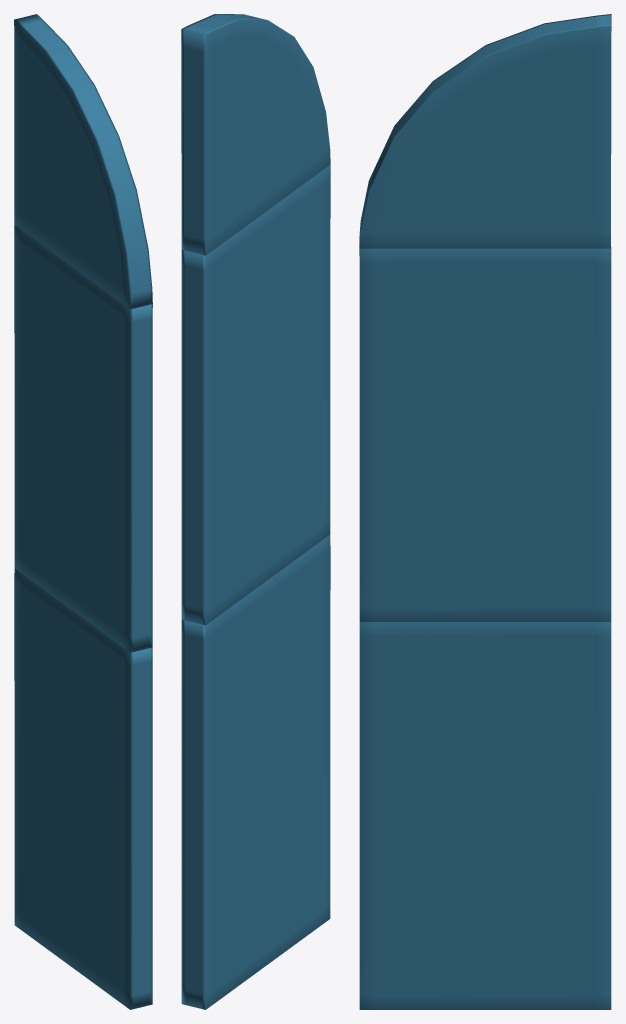
File: Door_01_R_Lod0.fbx
The picture shows the model from 3 angles, left to right: view 1: azimuth 30°, elevation 25°; view 2: azimuth 150°, elevation 25°; view 3: azimuth 270°, elevation 25°; orthographic projection. The views are drawn at different scales.
Visible parts, largest first — view 1: Door_01_R_Lod0; view 2: Door_01_R_Lod0; view 3: Door_01_R_Lod0.
Boxes of the visible parts, bbox=[...] form: Door_01_R_Lod0: bbox=[14, 14, 152, 1009]; Door_01_R_Lod0: bbox=[181, 14, 330, 1009]; Door_01_R_Lod0: bbox=[359, 14, 611, 1009].
Size of the model in its own units: 10.12 by 380 by 88.35.
